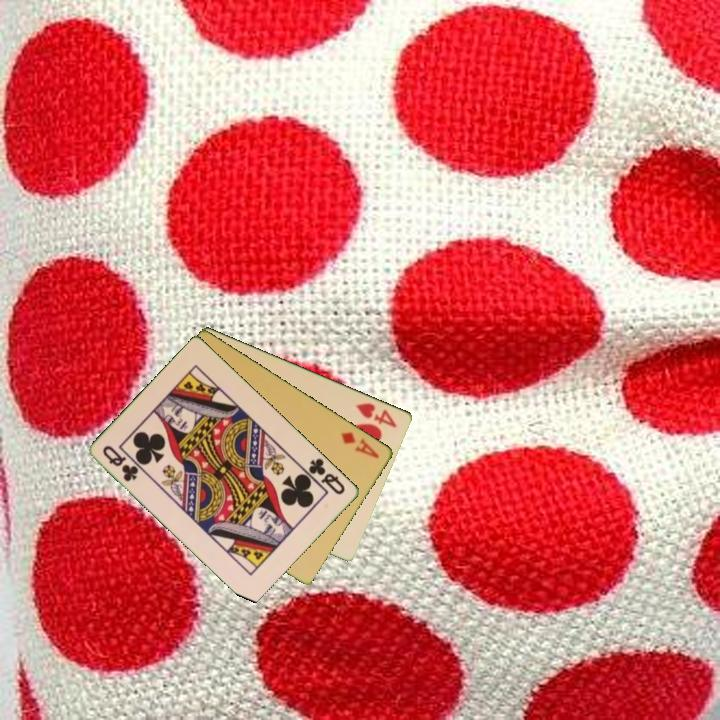4h: (352, 399, 400, 431)
Ad: (337, 428, 383, 461)
Qc: (300, 454, 349, 497), (99, 442, 142, 485)
